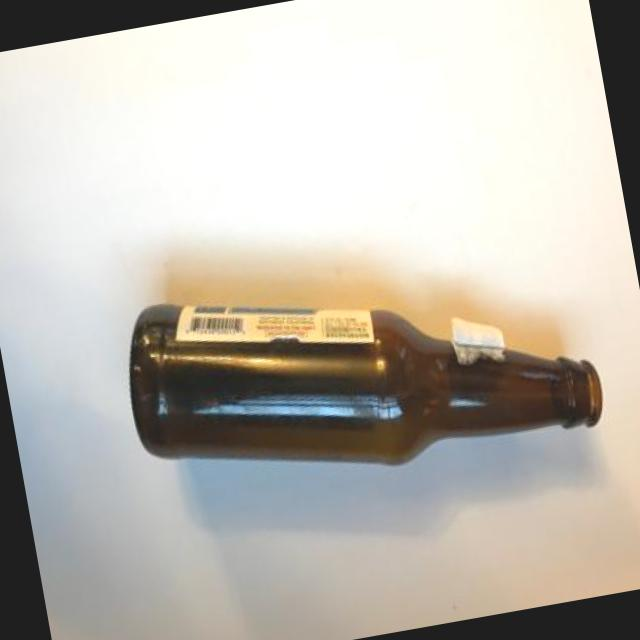chai_thuy_tinh: (128, 305, 602, 465)
